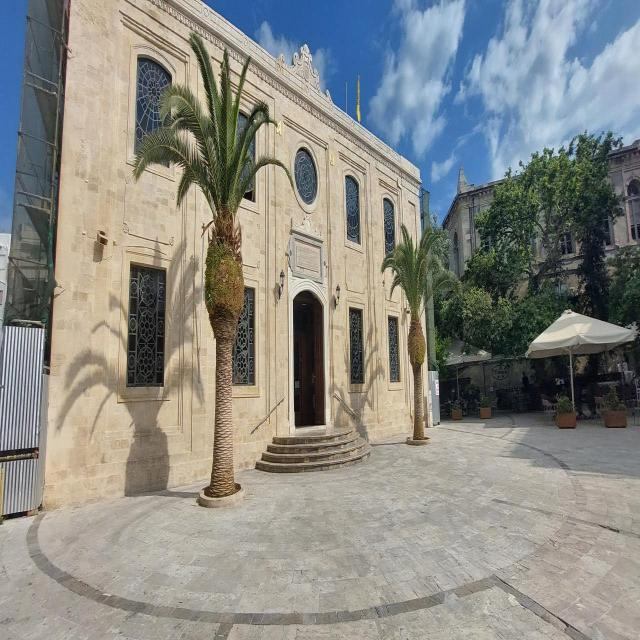Agios Titos: (50, 2, 424, 462)
